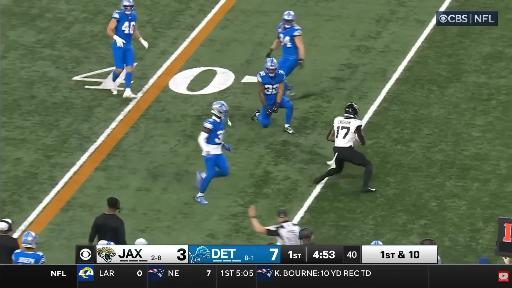Helmet: (212, 101, 229, 118), (22, 231, 38, 248), (265, 58, 278, 76), (344, 103, 358, 118), (282, 11, 295, 27), (121, 0, 134, 14), (98, 240, 115, 245), (371, 241, 383, 245)
Jersey: (257, 70, 285, 104), (112, 11, 137, 47), (203, 117, 225, 154), (334, 117, 362, 146), (278, 24, 302, 57), (12, 249, 45, 264)
Player: (315, 103, 376, 192), (107, 0, 148, 97), (195, 101, 231, 204), (252, 58, 294, 134), (266, 11, 305, 76), (12, 231, 45, 264), (371, 241, 383, 245)
